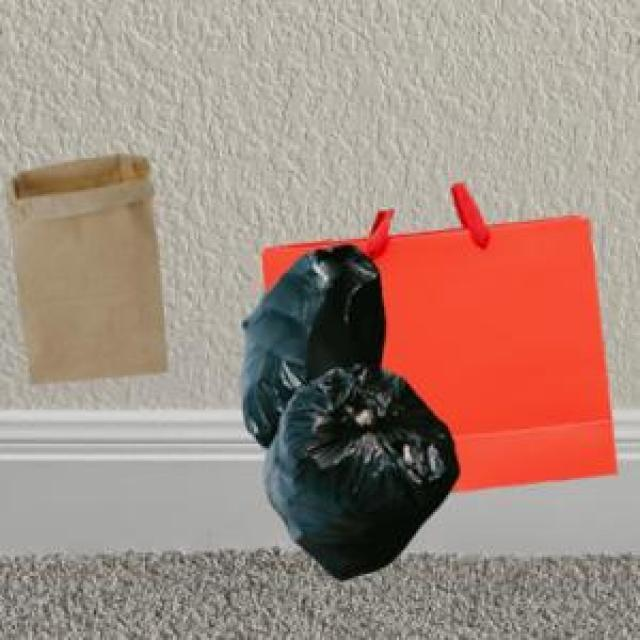miscellaneous trash: (239, 241, 454, 576)
paper: (256, 179, 612, 489), (2, 149, 164, 380)
